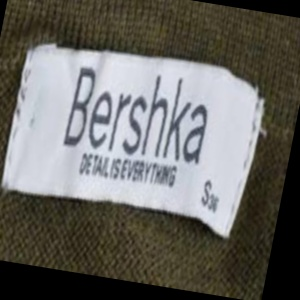bershka: (170, 39, 265, 129)
